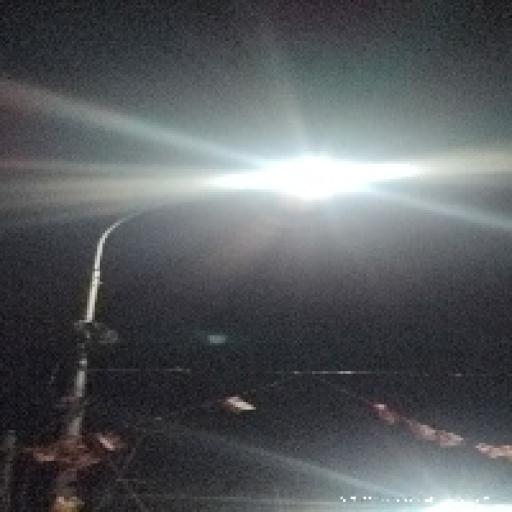Working: (233, 148, 398, 212)
